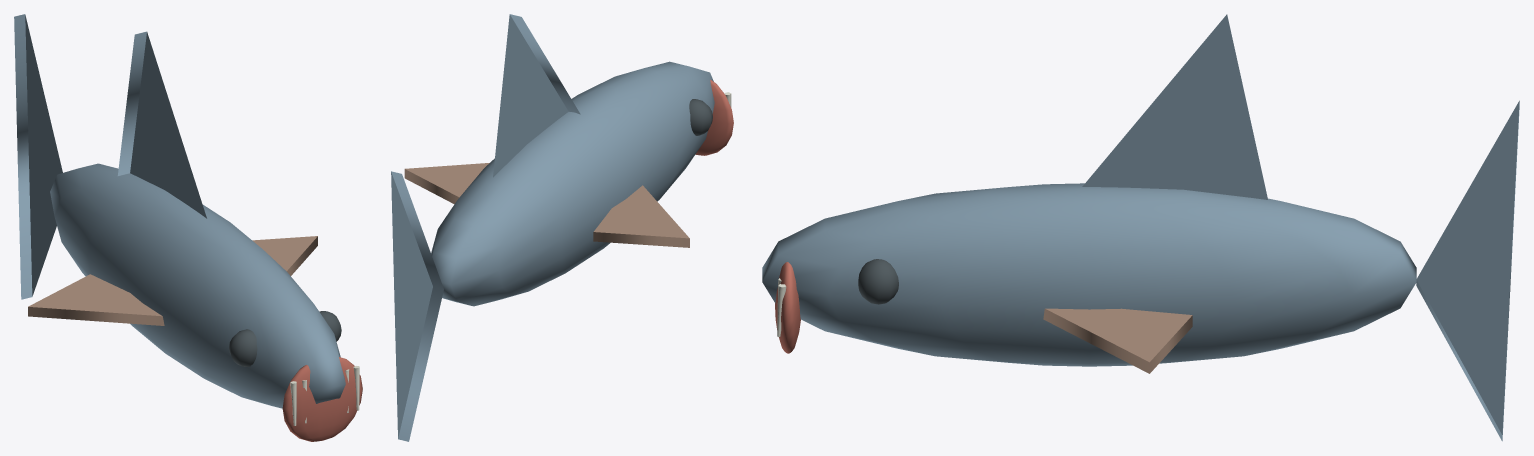
The model's file is open-ocean-and-deep-sea-life-viperfish-5d0b8a68__5891.glb.
The picture shows the model from 3 angles, left to right: view 1: azimuth 30°, elevation 25°; view 2: azimuth 150°, elevation 25°; view 3: azimuth 270°, elevation 25°; orthographic projection. The views are drawn at different scales.
Visible parts, largest first — view 1: viperfish; view 2: viperfish; view 3: viperfish.
Part boxes in pixels (<box>): viperfish: <box>14,14,362,441</box>; viperfish: <box>391,14,733,441</box>; viperfish: <box>762,14,1519,441</box>.
Bounding box in the file's own units: 0.1602 × 0.184 × 0.3.
